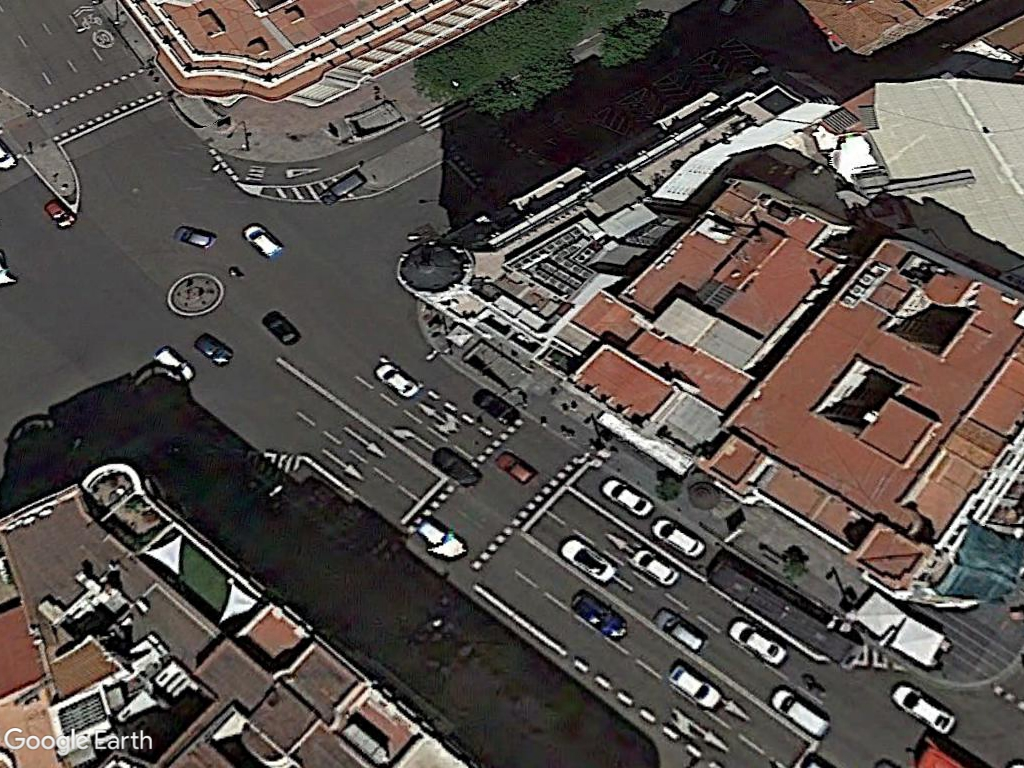car: (884, 676, 959, 737), (759, 680, 833, 740), (726, 611, 788, 668), (568, 586, 630, 643), (649, 602, 713, 656), (660, 660, 726, 712), (559, 531, 618, 584), (599, 472, 656, 519), (650, 513, 705, 561), (628, 545, 680, 588), (374, 358, 421, 401), (238, 221, 286, 260), (189, 330, 235, 369), (260, 306, 300, 347), (170, 221, 218, 252)
